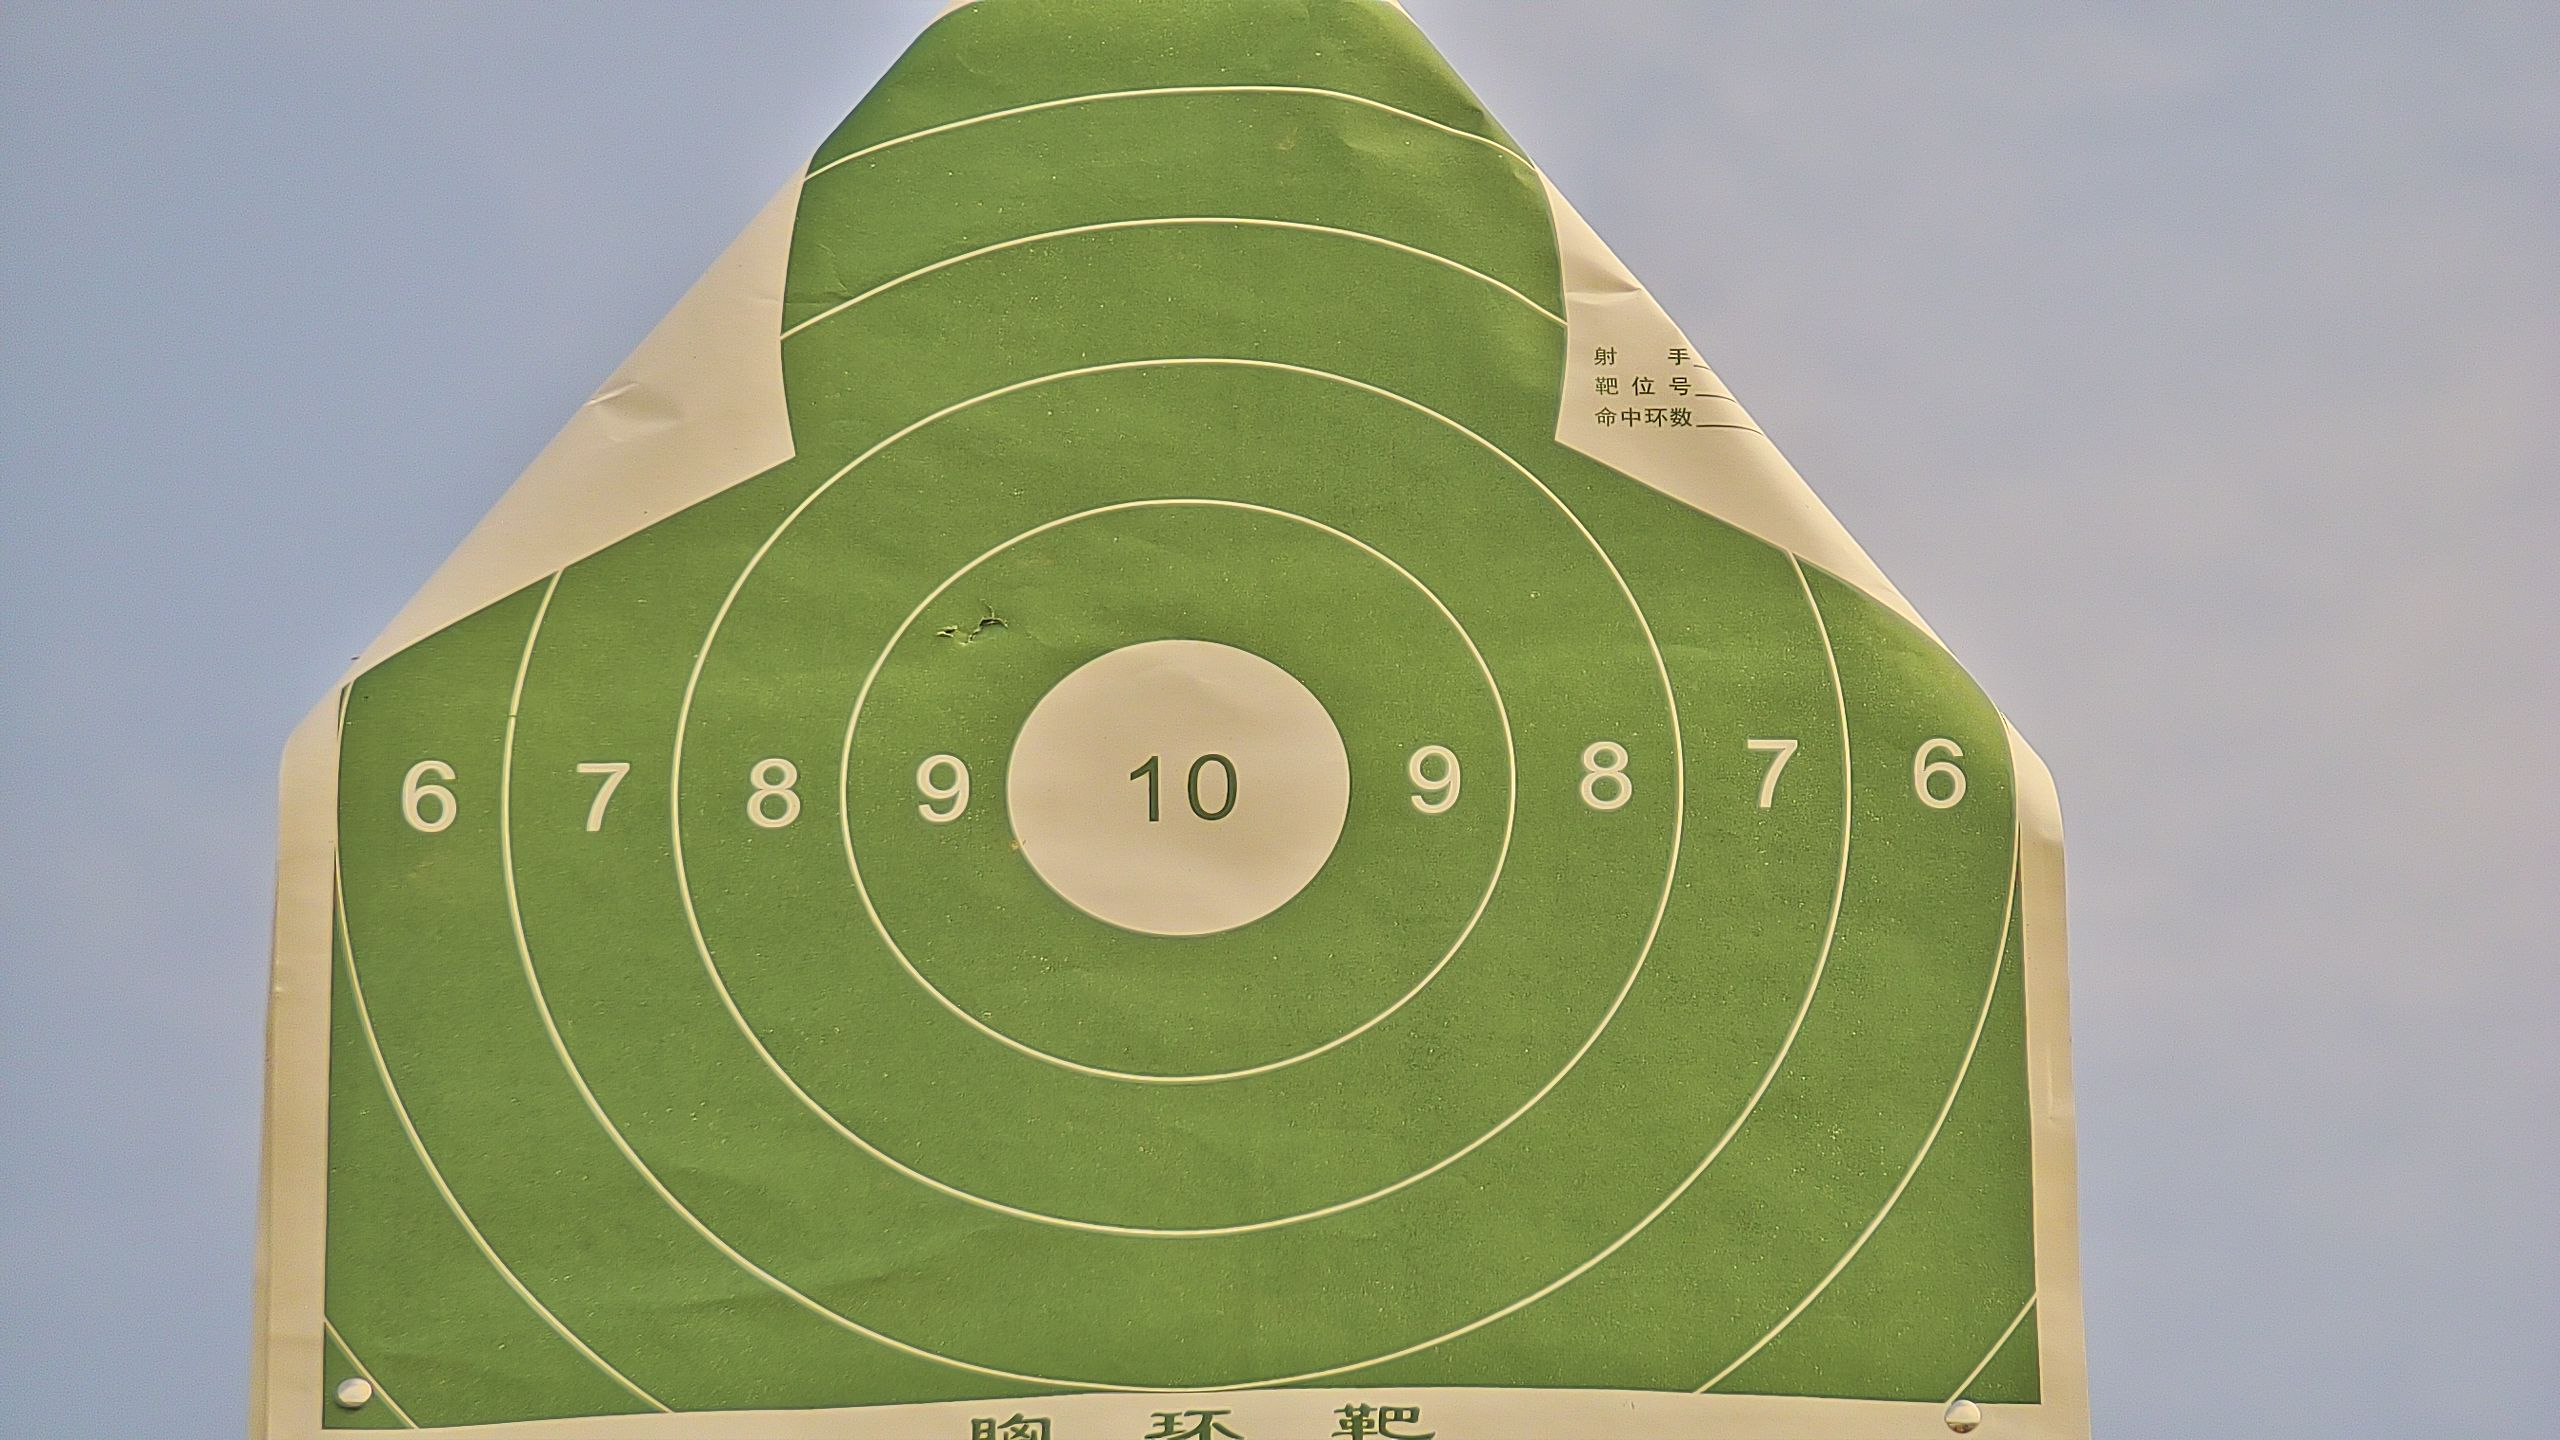target: (325, 7, 2040, 1440)
ten: (1002, 638, 1349, 937)
